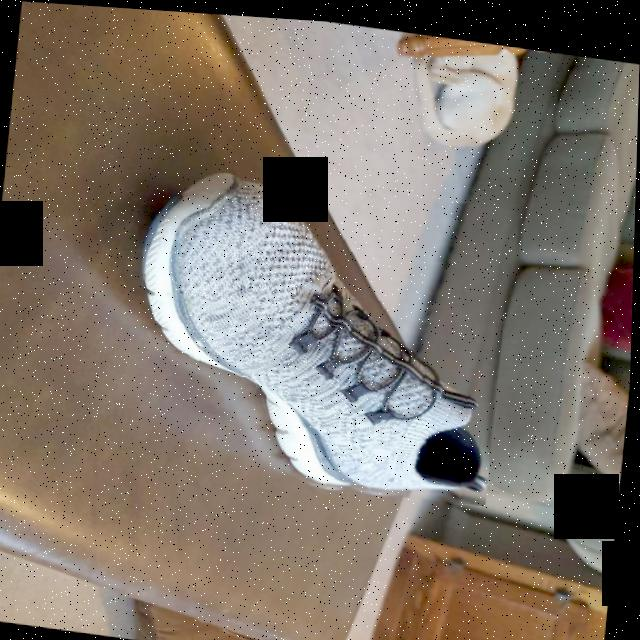shoe: (118, 157, 516, 508)
